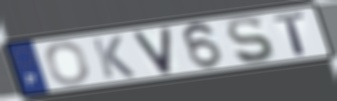6: (182, 21, 228, 73)
K: (89, 34, 138, 80)
O: (44, 41, 92, 87)
S: (225, 16, 277, 66)
T: (271, 11, 308, 57)
V: (130, 25, 175, 77)
